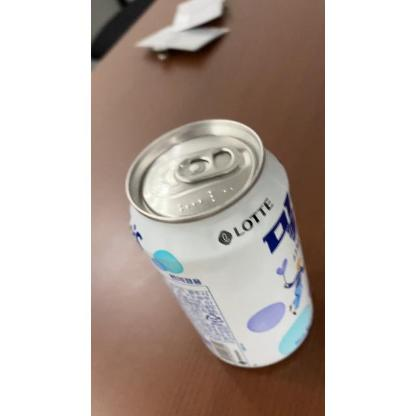Can: (124, 118, 316, 370)
